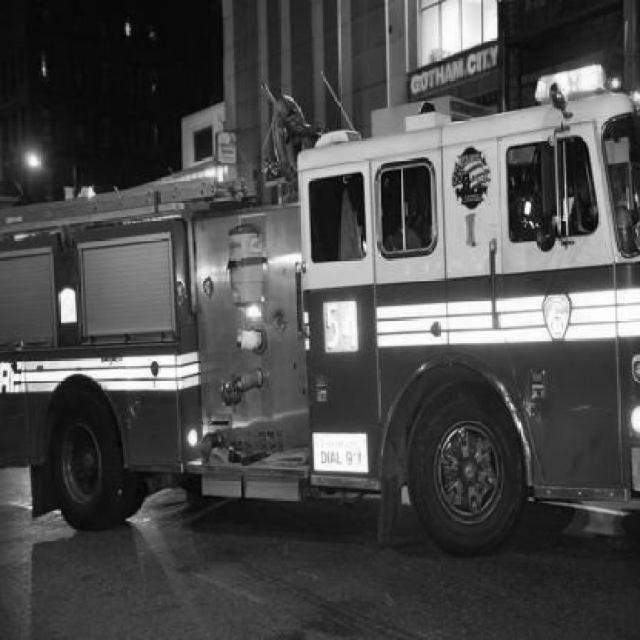Fire Truck: (0, 67, 640, 559)
